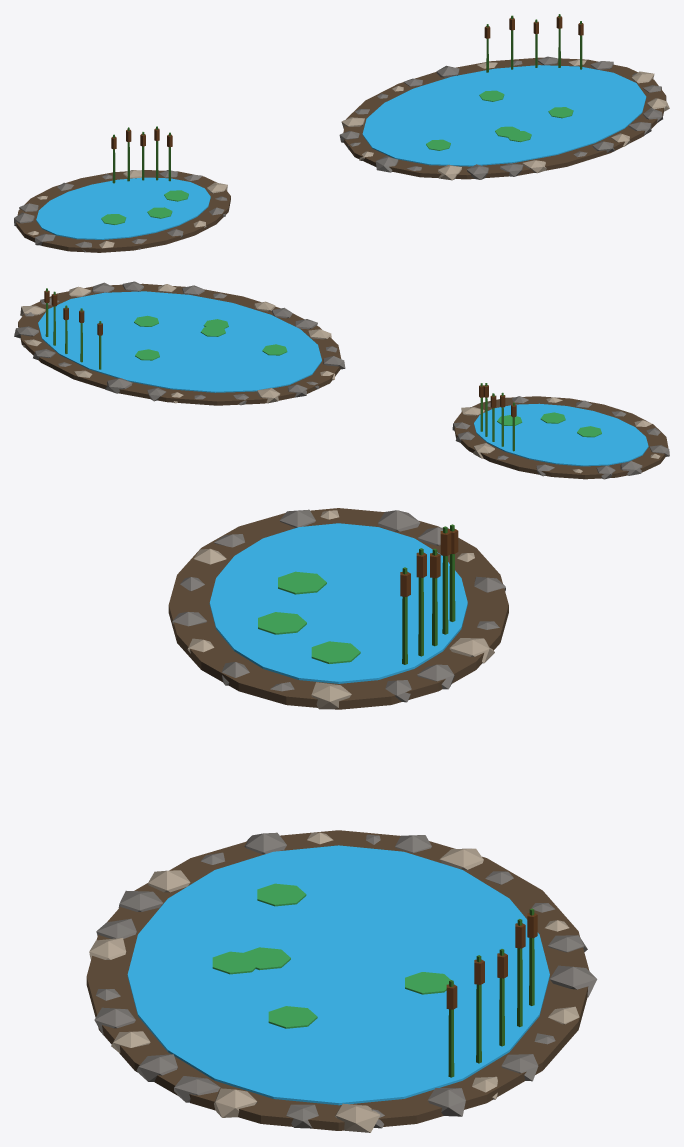
The model's file is kolam_v001.glb.
3 renders of one model, top to bottom at view 1: azimuth 30°, elevation 25°; view 2: azimuth 150°, elevation 25°; view 3: azimuth 270°, elevation 25°, orthographic. The views are drawn at different scales.
Parts seen in each view (by area): view 1: Kolam_Besar, Kolam_Kecil; view 2: Kolam_Besar, Kolam_Kecil; view 3: Kolam_Besar, Kolam_Kecil.
Part boxes in pixels (x1,y1,x2,y2): Kolam_Besar: (339,14,669,180); Kolam_Kecil: (14,126,230,252); Kolam_Besar: (14,281,345,405); Kolam_Kecil: (452,383,669,479); Kolam_Besar: (86,830,597,1132); Kolam_Kecil: (168,508,508,709).
Size of the model in its own units: 12.49 by 1.1 by 4.35.
